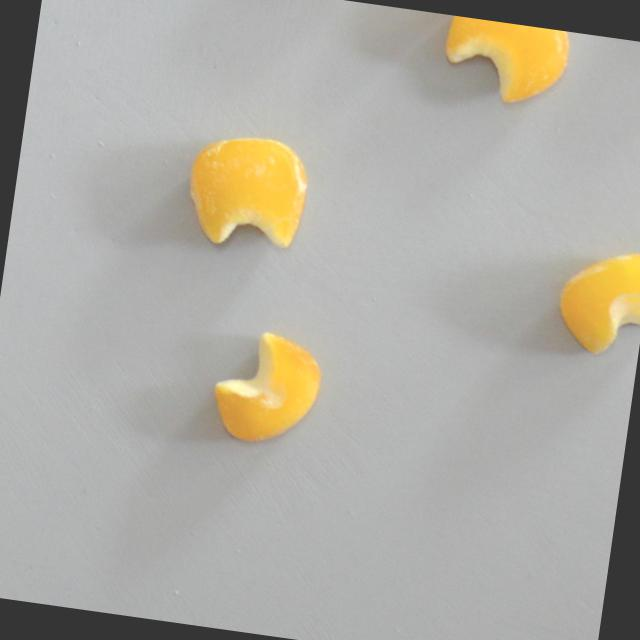no_canjicado: (207, 325, 327, 452), (438, 15, 573, 111), (553, 243, 640, 361)
pelicula: (181, 127, 315, 256)
